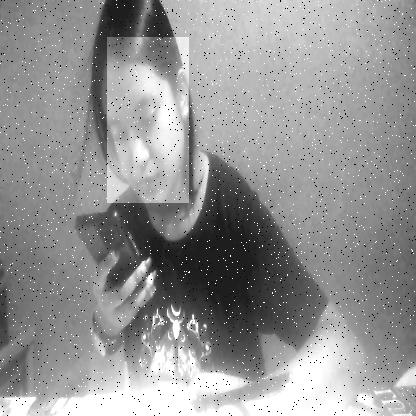Distracted: (107, 37, 188, 203)
